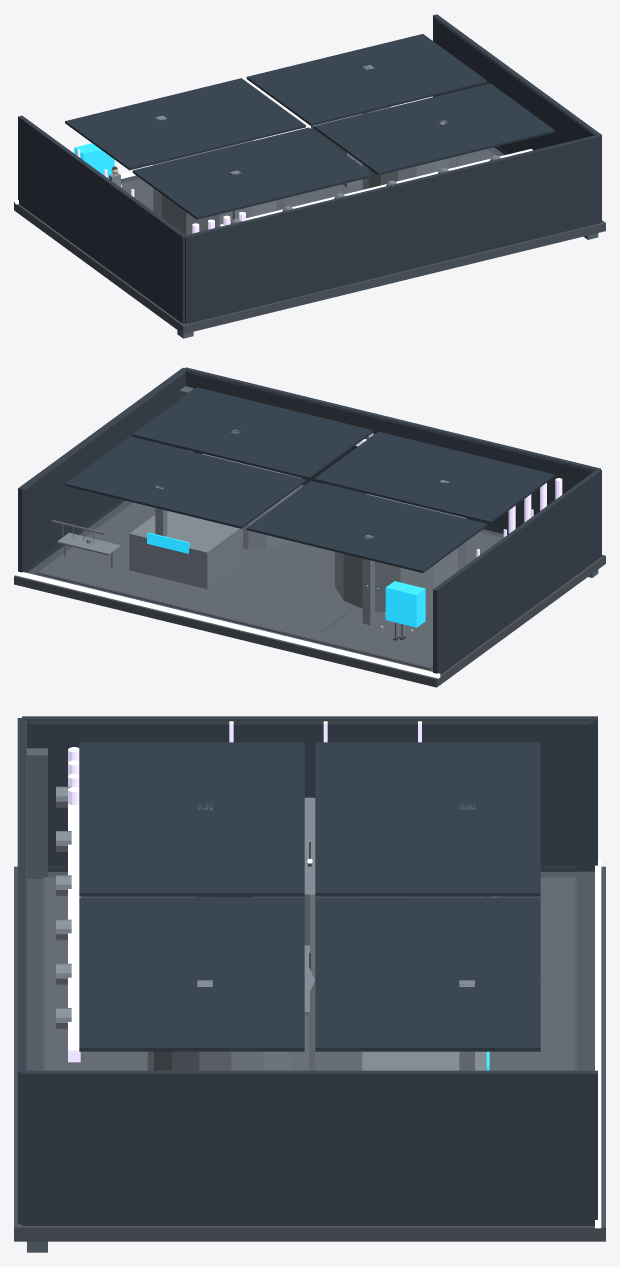
Rendered from floor-reclamation-core.glb.
3 renders of one model, top to bottom at view 1: azimuth 30°, elevation 25°; view 2: azimuth 150°, elevation 25°; view 3: azimuth 270°, elevation 25°, orthographic. The views are drawn at different scales.
Parts seen in each view (by area): view 1: WallBack_basement, WallL_basement, Coffer_1_-1_basement, Coffer_1_1_basement, Coffer_-1_-1_basement, Coffer_-1_1_basement, Slab_basement, WallR_basement, Reservoir, ConcFloor, Digester, ControlPanel (+1 smaller); view 2: ConcFloor, WallL_basement, Coffer_1_-1_basement, Coffer_1_1_basement, Coffer_-1_1_basement, Coffer_-1_-1_basement, WallR_basement, WallBack_basement, Slab_basement, TreatSkid, Reservoir, Reveal_basement (+9 smaller); view 3: WallR_basement, Coffer_-1_-1_basement, Coffer_-1_1_basement, Coffer_1_1_basement, Coffer_1_-1_basement, WallL_basement, Slab_basement, ConcFloor, Digester, WallBack_basement, ManifoldPipe, Post_basement_-1 (+7 smaller).
Boxes of the visible parts, left/top/right/bottom form: WallBack_basement: left=184, top=135, right=600, bottom=324; WallL_basement: left=18, top=115, right=185, bottom=323; Coffer_1_-1_basement: left=314, top=83, right=554, bottom=175; Coffer_1_1_basement: left=246, top=34, right=487, bottom=125; Coffer_-1_-1_basement: left=132, top=127, right=373, bottom=219; Coffer_-1_1_basement: left=65, top=78, right=305, bottom=170; Slab_basement: left=14, top=147, right=605, bottom=334; WallR_basement: left=433, top=14, right=601, bottom=221; Reservoir: left=153, top=140, right=284, bottom=234; ConcFloor: left=121, top=149, right=494, bottom=210; Digester: left=362, top=156, right=457, bottom=189; ControlPanel: left=74, top=143, right=114, bottom=178; ConcFloor: left=38, top=502, right=502, bottom=667; WallL_basement: left=433, top=469, right=601, bottom=674; Coffer_1_-1_basement: left=132, top=387, right=373, bottom=479; Coffer_1_1_basement: left=65, top=436, right=305, bottom=528; Coffer_-1_1_basement: left=246, top=481, right=487, bottom=572; Coffer_-1_-1_basement: left=314, top=431, right=554, bottom=523; WallR_basement: left=18, top=368, right=186, bottom=572; WallBack_basement: left=184, top=367, right=600, bottom=531; Slab_basement: left=14, top=485, right=605, bottom=687; TreatSkid: left=129, top=511, right=242, bottom=588; Reservoir: left=335, top=494, right=466, bottom=612; Reveal_basement: left=15, top=570, right=440, bottom=678; WallR_basement: left=22, top=1070, right=597, bottom=1225; Coffer_-1_-1_basement: left=79, top=742, right=304, bottom=896; Coffer_-1_1_basement: left=315, top=742, right=540, bottom=896; Coffer_1_1_basement: left=315, top=897, right=540, bottom=1051; Coffer_1_-1_basement: left=79, top=897, right=304, bottom=1051; WallL_basement: left=22, top=716, right=597, bottom=871; Slab_basement: left=14, top=866, right=605, bottom=1241; ConcFloor: left=45, top=877, right=574, bottom=1070; Digester: left=147, top=970, right=315, bottom=1070; WallBack_basement: left=17, top=718, right=25, bottom=1224; ManifoldPipe: left=68, top=803, right=80, bottom=1062; Post_basement_-1: left=27, top=748, right=47, bottom=878.
Bounding box in the file's own units: 16.32 × 3.85 × 11.3.
